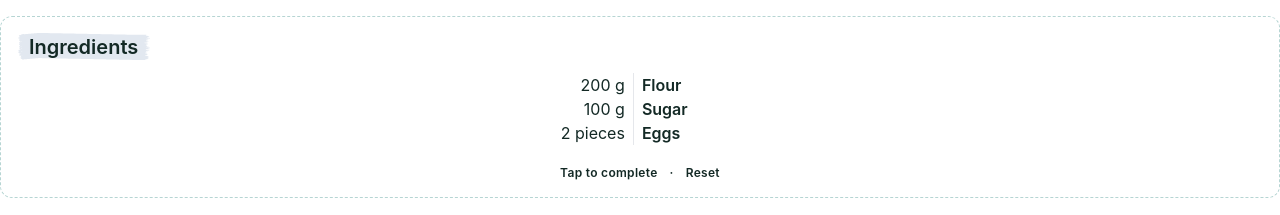
Test: Ingredients › marks all ingredients as complete when "Tap to complete" is clicked
What coordinates should you click on to do the following:
click the button "Tap to complete"
I would click on:
 (609, 173)
Its box is x1=560 y1=165 x2=658 y2=181.
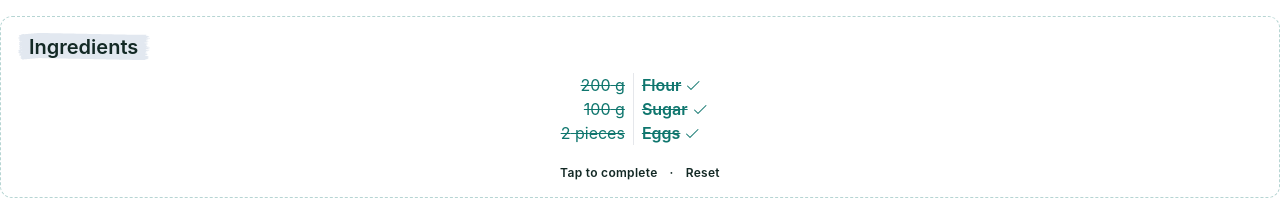
Check: the number of icons with test id "check-icon" is 3, box x1=685 y1=77 x2=701 y2=93; x1=692 y1=101 x2=708 y2=117; x1=684 y1=125 x2=700 y2=141
